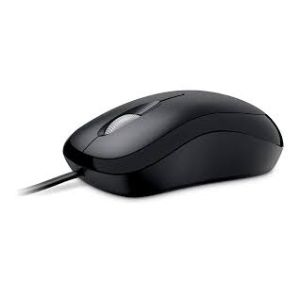mouse: (37, 81, 286, 203)
